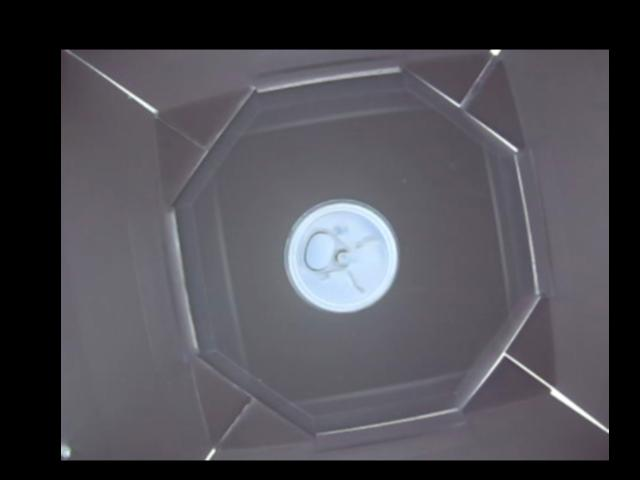Bottle: (281, 199, 400, 315)
